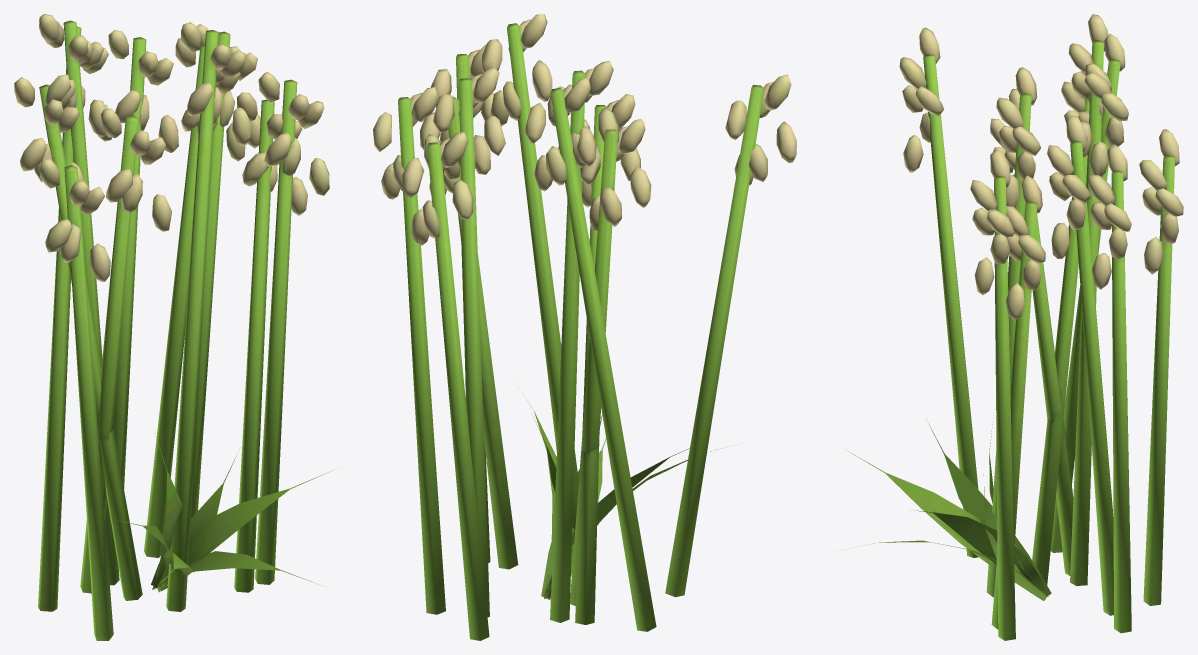
Rendered from crop_oat.glb.
The picture shows the model from 3 angles, left to right: view 1: azimuth 30°, elevation 25°; view 2: azimuth 150°, elevation 25°; view 3: azimuth 270°, elevation 25°; orthographic projection. The views are drawn at different scales.
Visible parts, largest first — view 1: crop_oat, fruit; view 2: crop_oat, fruit; view 3: crop_oat, fruit.
Boxes of the visible parts, left/top/right/bottom form: crop_oat: left=38, top=20, right=335, bottom=640; fruit: left=14, top=14, right=329, bottom=282; crop_oat: left=398, top=23, right=764, bottom=640; fruit: left=373, top=14, right=796, bottom=245; crop_oat: left=845, top=40, right=1174, bottom=640; fruit: left=899, top=14, right=1183, bottom=320.
Bounding box in the file's own units: 0.2149 × 0.3719 × 0.2212.
1 material, 1 textured.
